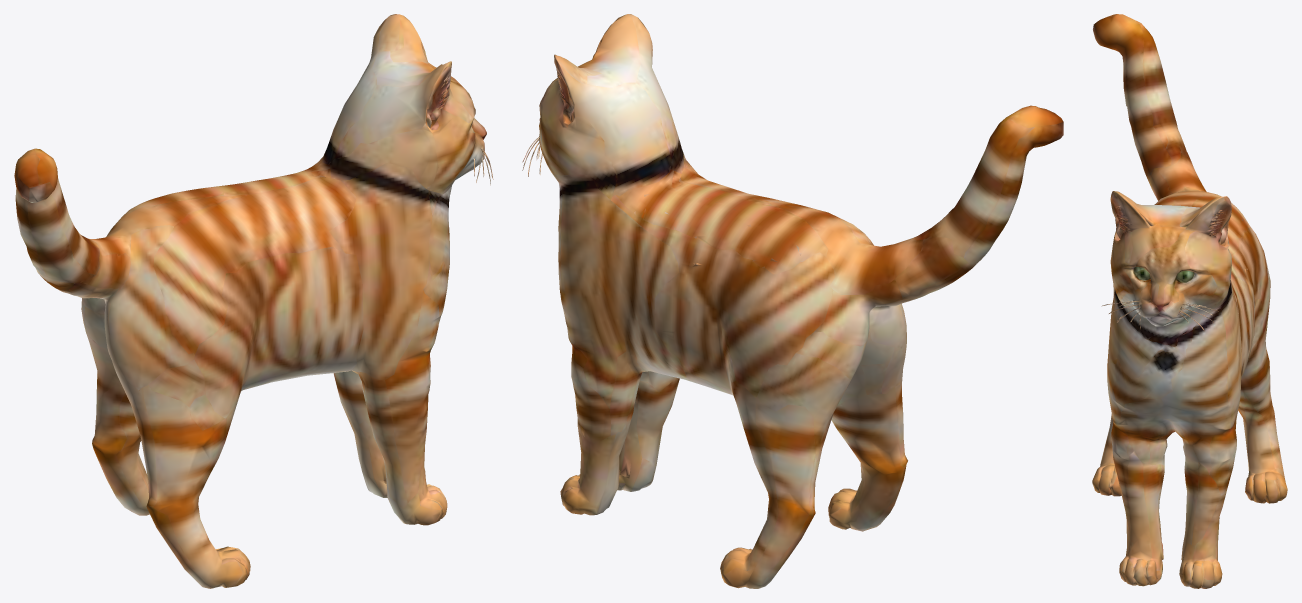
Rendered from FLERKENCAT-lo.glb.
3 renders of one model, left to right at view 1: azimuth 30°, elevation 25°; view 2: azimuth 150°, elevation 25°; view 3: azimuth 270°, elevation 25°, orthographic. The views are drawn at different scales.
Parts seen in each view (by area): view 1: fit; view 2: fit; view 3: fit.
Part boxes in pixels (x1,y1,x2,y2): fit: [14, 14, 493, 588]; fit: [522, 14, 1063, 588]; fit: [1092, 14, 1287, 588].
Size of the model in its own units: 1.1 by 0.9996 by 0.4424.
Materials: 1 (1 with a texture image).
